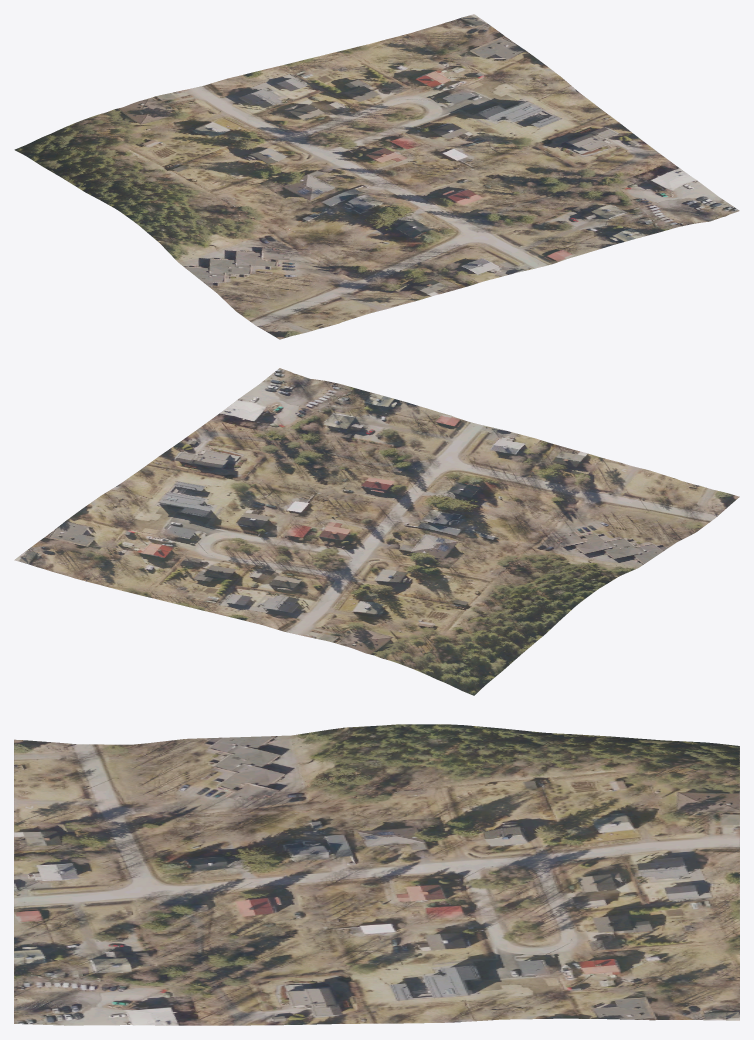
Rendered from CM_Terrain_24491073_6821432.fbx.
The picture shows the model from 3 angles, top to bottom: view 1: azimuth 30°, elevation 25°; view 2: azimuth 150°, elevation 25°; view 3: azimuth 270°, elevation 25°; orthographic projection. The views are drawn at different scales.
Visible parts, largest first — view 1: CM_Terrain_24491073_6821432_LOD0; view 2: CM_Terrain_24491073_6821432_LOD0; view 3: CM_Terrain_24491073_6821432_LOD0.
Boxes of the visible parts, box(x1,y1,x2,y2) form: CM_Terrain_24491073_6821432_LOD0: box(14, 14, 739, 339); CM_Terrain_24491073_6821432_LOD0: box(14, 368, 739, 695); CM_Terrain_24491073_6821432_LOD0: box(14, 724, 739, 1025).
Size of what is drawn, in the model's own units: 205 by 10.59 by 205.
